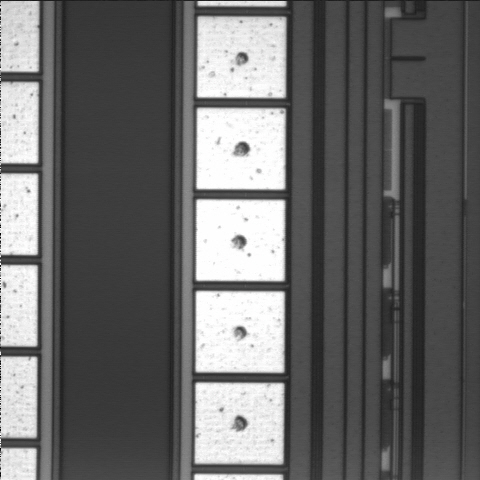pad: (196, 108, 285, 190), (196, 199, 285, 281), (196, 291, 284, 373), (197, 17, 286, 98), (195, 383, 284, 464)
